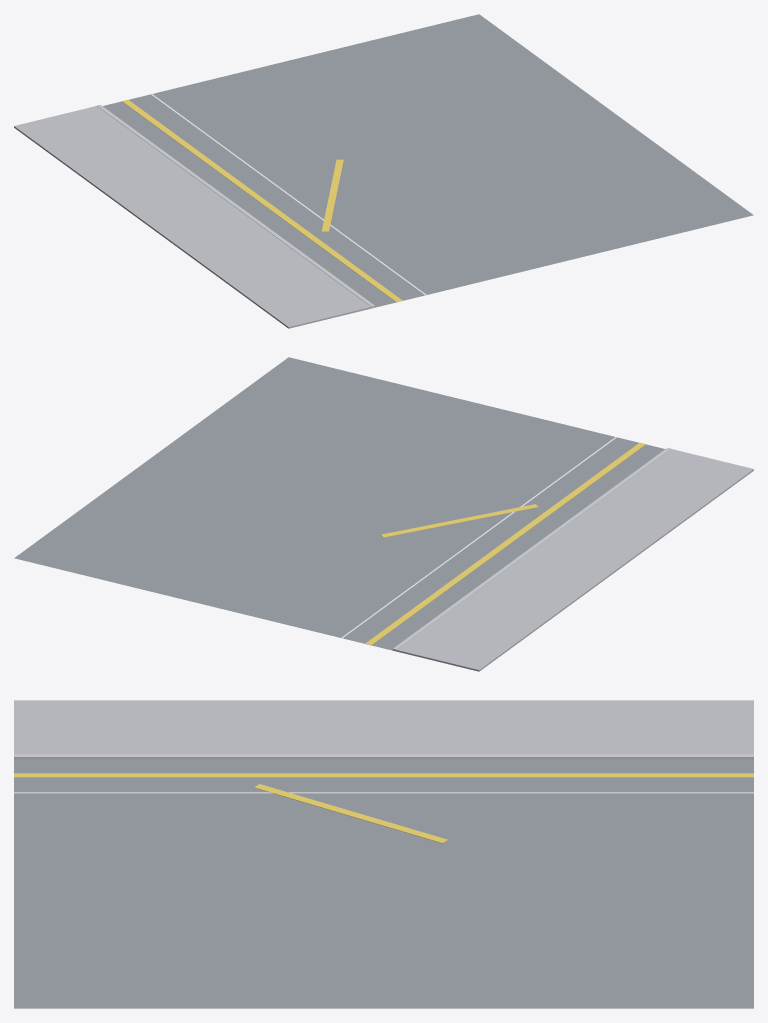
Rendered from plaza_ground_mesh.glb.
The picture shows the model from 3 angles, top to bottom: view 1: azimuth 30°, elevation 25°; view 2: azimuth 150°, elevation 25°; view 3: azimuth 270°, elevation 25°; orthographic projection. The views are drawn at different scales.
Parts seen in each view (by area): view 1: Plaza_Main_Pavement, Plaza_Sidewalk_Raised, Tactile_Blind_Lane_Main, Plaza_Curb_Stone, Road_White_Line, Tactile_Blind_Lane_Branch; view 2: Plaza_Main_Pavement, Plaza_Sidewalk_Raised, Tactile_Blind_Lane_Main, Plaza_Curb_Stone, Tactile_Blind_Lane_Branch, Road_White_Line; view 3: Plaza_Main_Pavement, Plaza_Sidewalk_Raised, Plaza_Curb_Stone, Tactile_Blind_Lane_Main, Road_White_Line, Tactile_Blind_Lane_Branch.
Part boxes in pixels (<box>): Plaza_Main_Pavement: <box>103,14,753,307</box>; Plaza_Sidewalk_Raised: <box>14,106,371,328</box>; Tactile_Blind_Lane_Main: <box>122,99,402,302</box>; Plaza_Curb_Stone: <box>97,104,375,308</box>; Road_White_Line: <box>151,94,426,295</box>; Tactile_Blind_Lane_Branch: <box>321,159,343,231</box>; Plaza_Main_Pavement: <box>14,357,664,650</box>; Plaza_Sidewalk_Raised: <box>396,449,753,671</box>; Tactile_Blind_Lane_Main: <box>365,442,645,645</box>; Plaza_Curb_Stone: <box>392,447,670,651</box>; Tactile_Blind_Lane_Branch: <box>381,504,538,537</box>; Road_White_Line: <box>341,437,616,638</box>; Plaza_Main_Pavement: <box>14,759,753,1008</box>; Plaza_Sidewalk_Raised: <box>14,700,753,754</box>; Plaza_Curb_Stone: <box>14,754,753,759</box>; Tactile_Blind_Lane_Main: <box>14,773,753,777</box>; Road_White_Line: <box>14,792,753,793</box>; Tactile_Blind_Lane_Branch: <box>254,784,447,843</box>.
Bounding box in the file's own units: 44 × 0.18 × 45.
